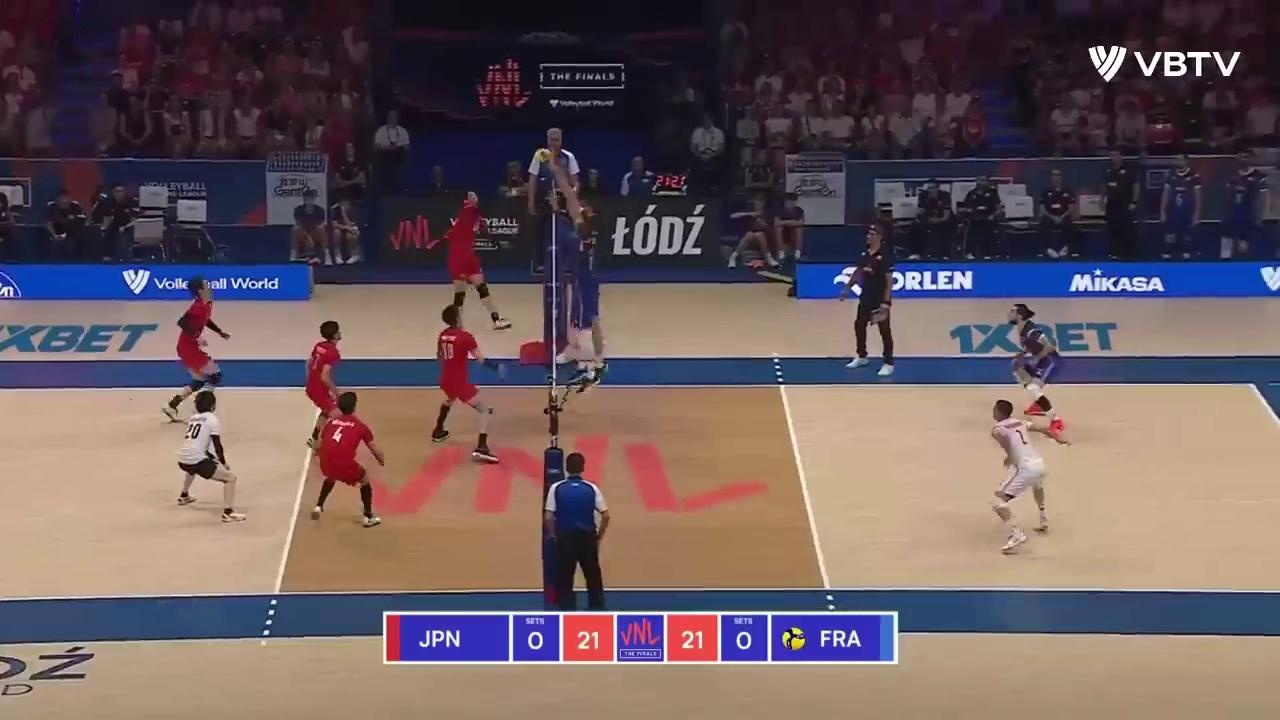ball: (537, 148, 552, 164)
